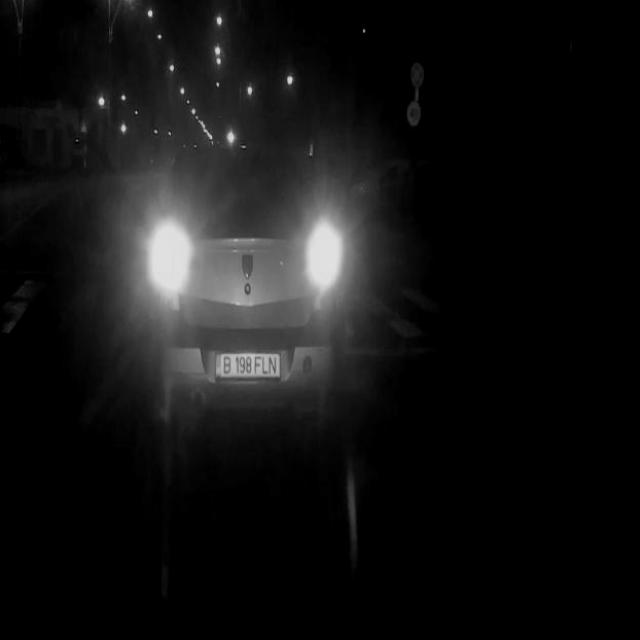licenseplate: (213, 348, 284, 384)
